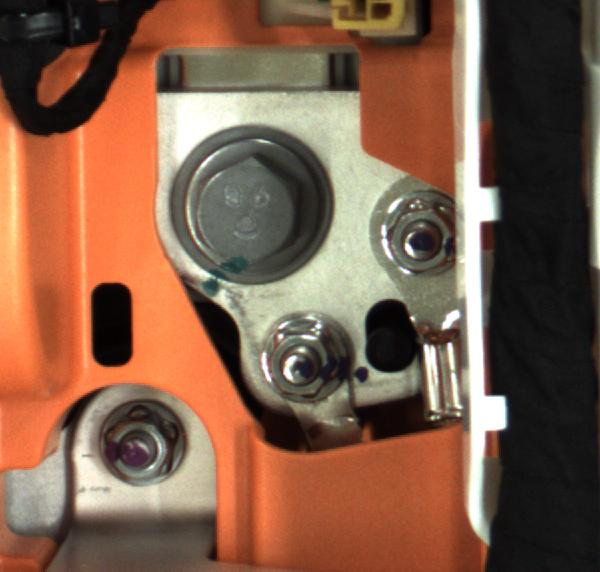nut_b: (159, 116, 329, 293)
screw_s: (76, 393, 193, 497), (240, 314, 346, 402), (379, 193, 459, 275)
